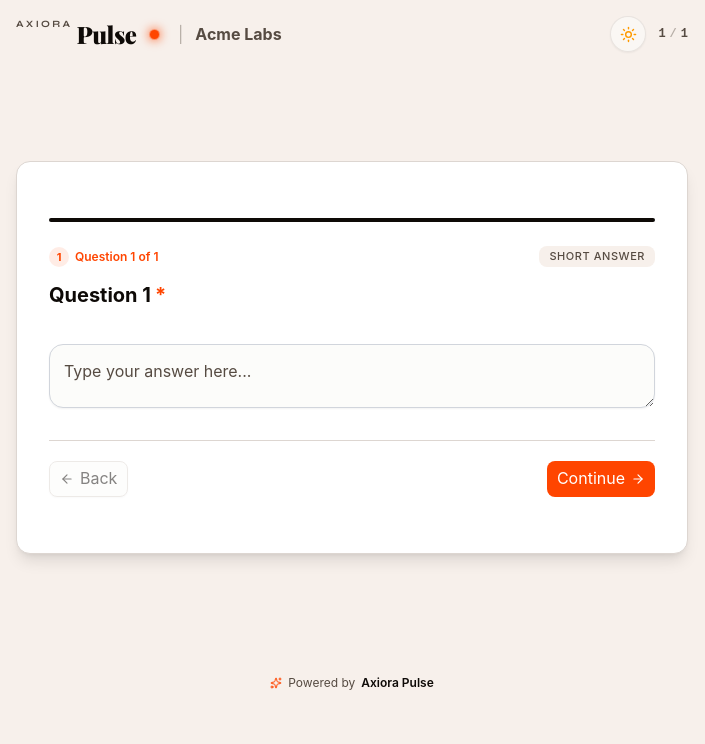
it: PublicSurveyPage › shows validation error when entering an invalid email address
Type "My Answer" into the text box with placeholder "Type your answer here..." at (352, 376), box left=49, top=344, right=655, bottom=408
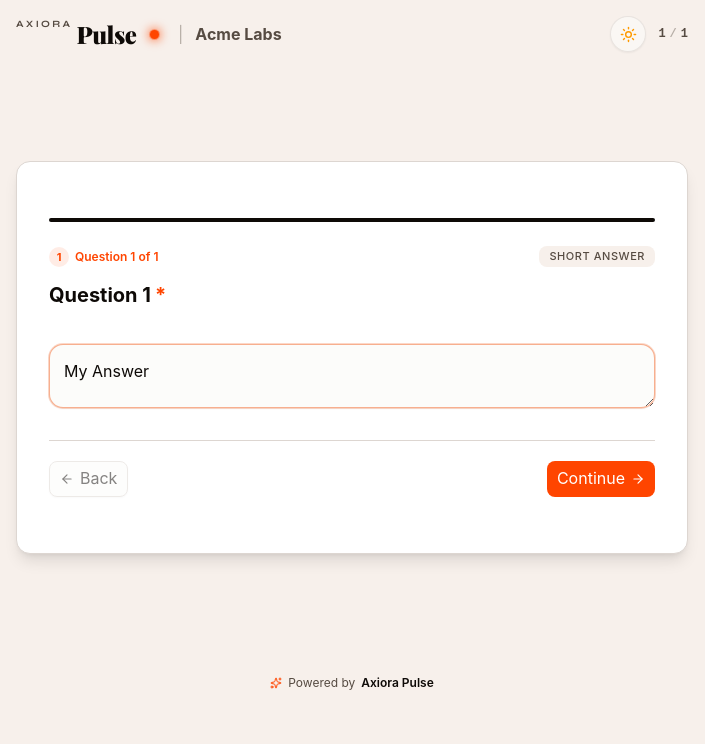
Click the button "Continue" at (601, 479), box left=547, top=461, right=655, bottom=497
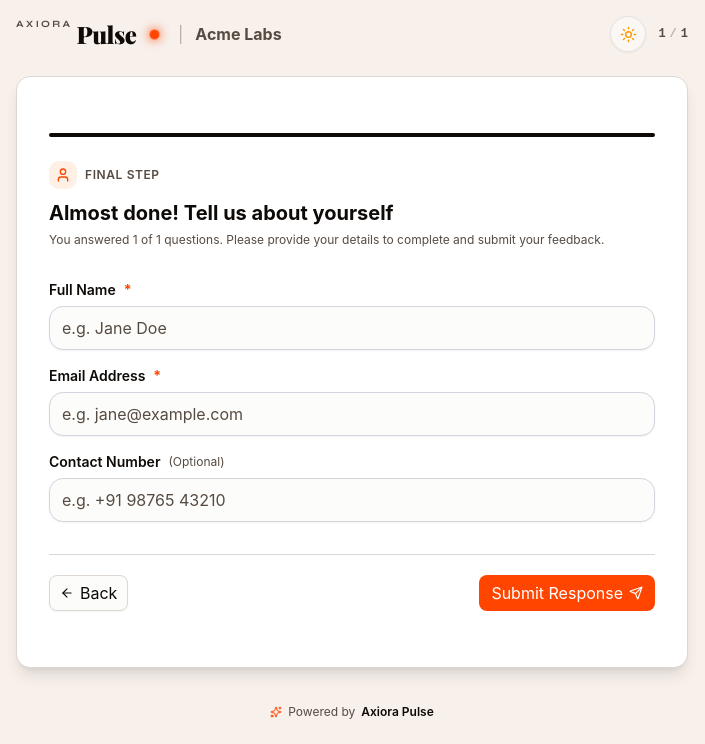
Type "Valid Name" into the field labelled "Full Name *" at (352, 328), box left=49, top=306, right=655, bottom=350
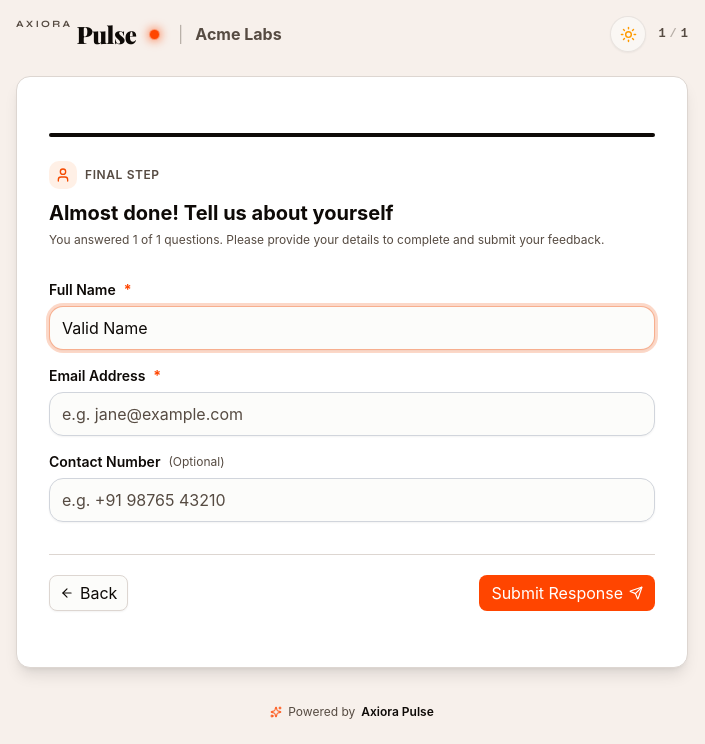
Type "not-an-email" into the field labelled "Email Address *" at (352, 414), box left=49, top=392, right=655, bottom=436
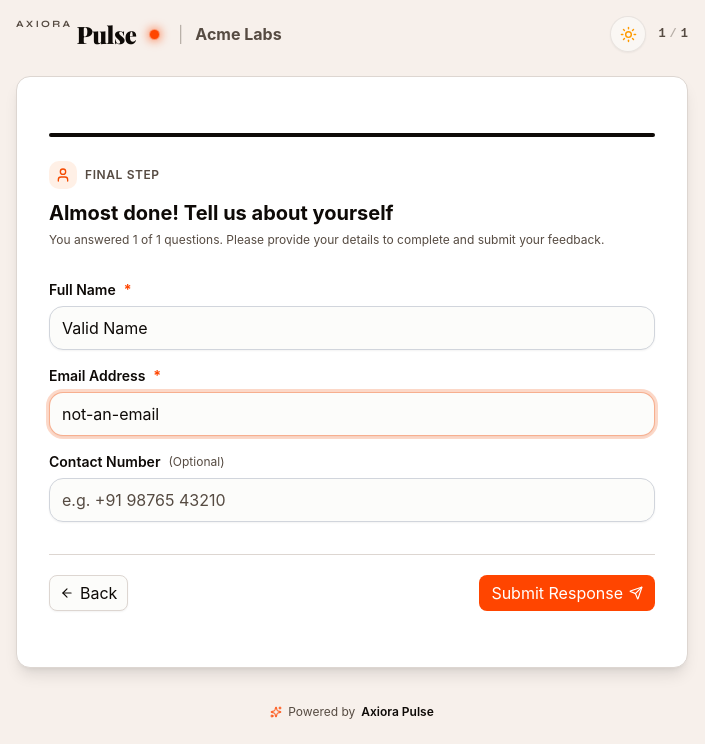
Click the button "Submit Response" at (567, 593), box left=479, top=575, right=655, bottom=611
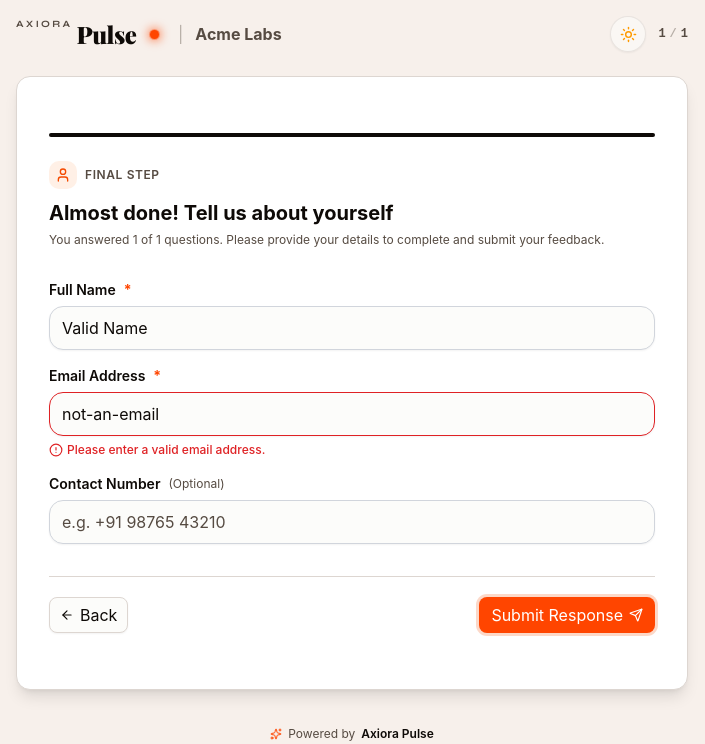
Now the text "Please enter a valid email address." is shown, box left=49, top=442, right=265, bottom=457
